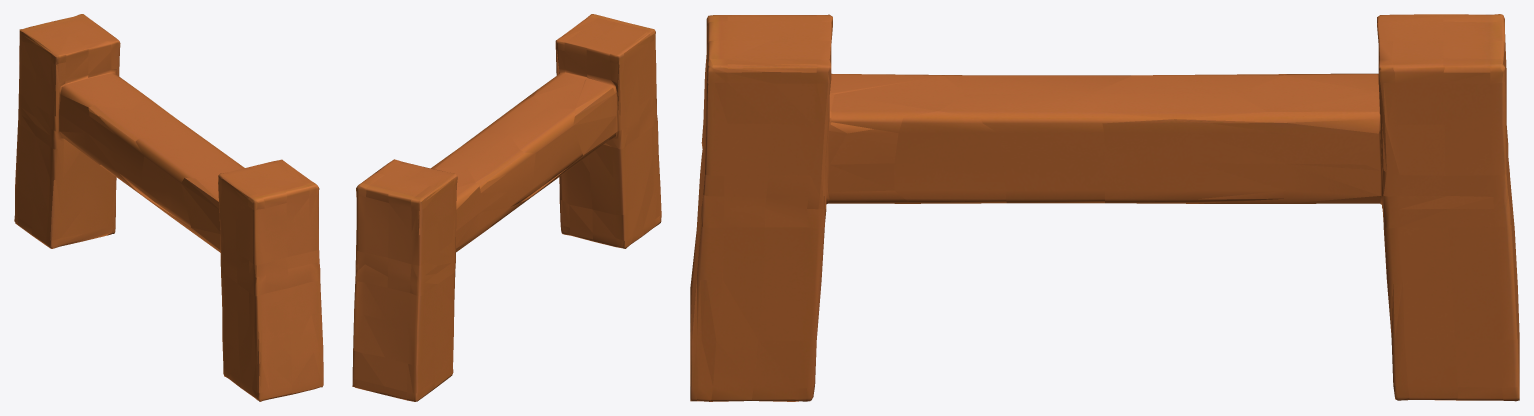
The model's file is railing.glb.
3 views of the same model, side by side, from view 1: azimuth 30°, elevation 25°; view 2: azimuth 150°, elevation 25°; view 3: azimuth 270°, elevation 25° (orthographic). The views are drawn at different scales.
Size of the model in its own units: 0.1562 by 0.4492 by 1.
Materials: 1 (1 with a texture image).
